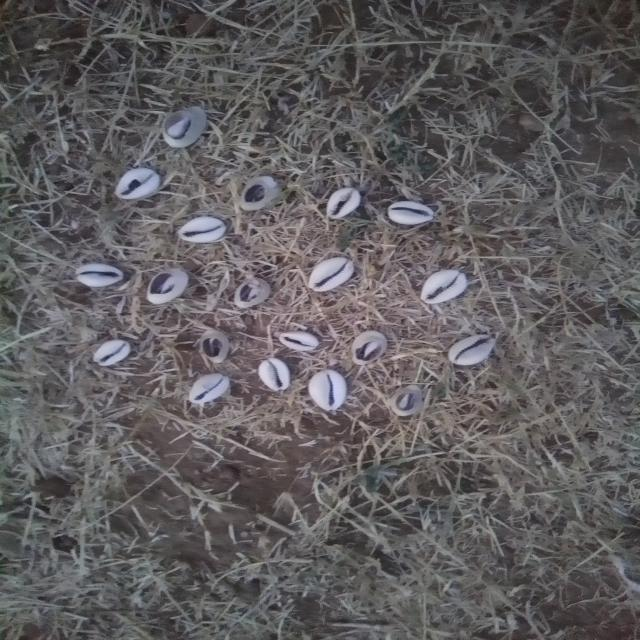facedown: (157, 103, 210, 151), (146, 268, 193, 306), (238, 175, 279, 213), (228, 278, 276, 310), (350, 329, 389, 366), (386, 382, 424, 418), (198, 328, 233, 364)
faceup: (112, 166, 165, 206), (173, 211, 231, 246), (418, 269, 473, 305), (305, 257, 358, 293), (306, 369, 350, 412), (446, 332, 499, 367), (89, 336, 135, 371), (186, 372, 234, 405), (324, 185, 364, 222), (254, 355, 294, 392), (73, 262, 125, 290), (386, 200, 435, 228), (279, 330, 321, 354)
